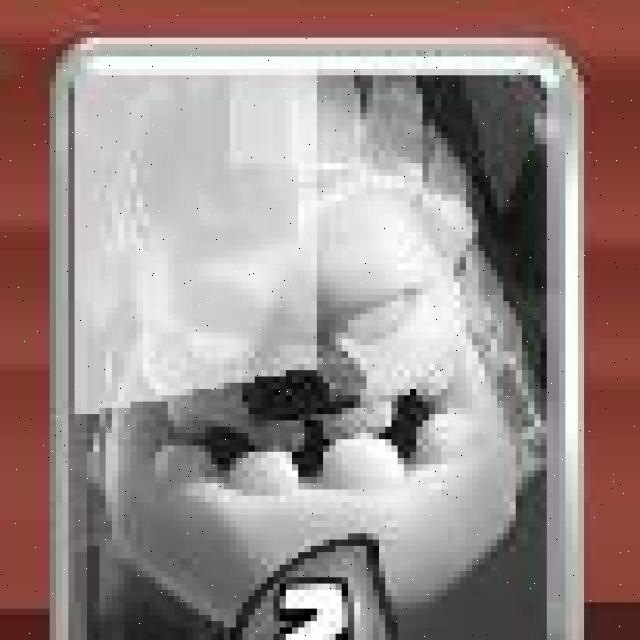Ice_Golem: (46, 37, 586, 640)
